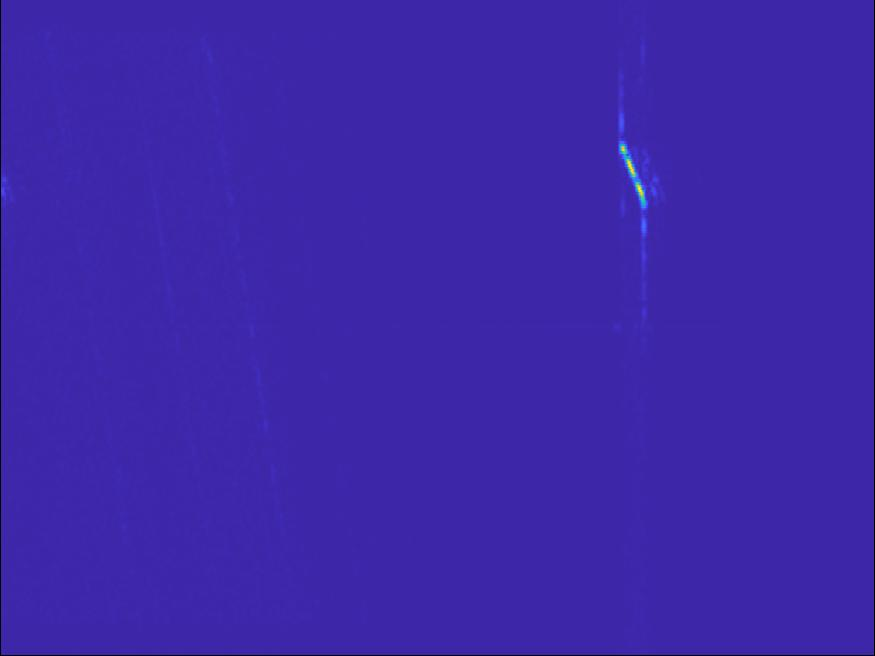Interference: (671, 386, 829, 503), (358, 291, 581, 357), (525, 110, 643, 166)
